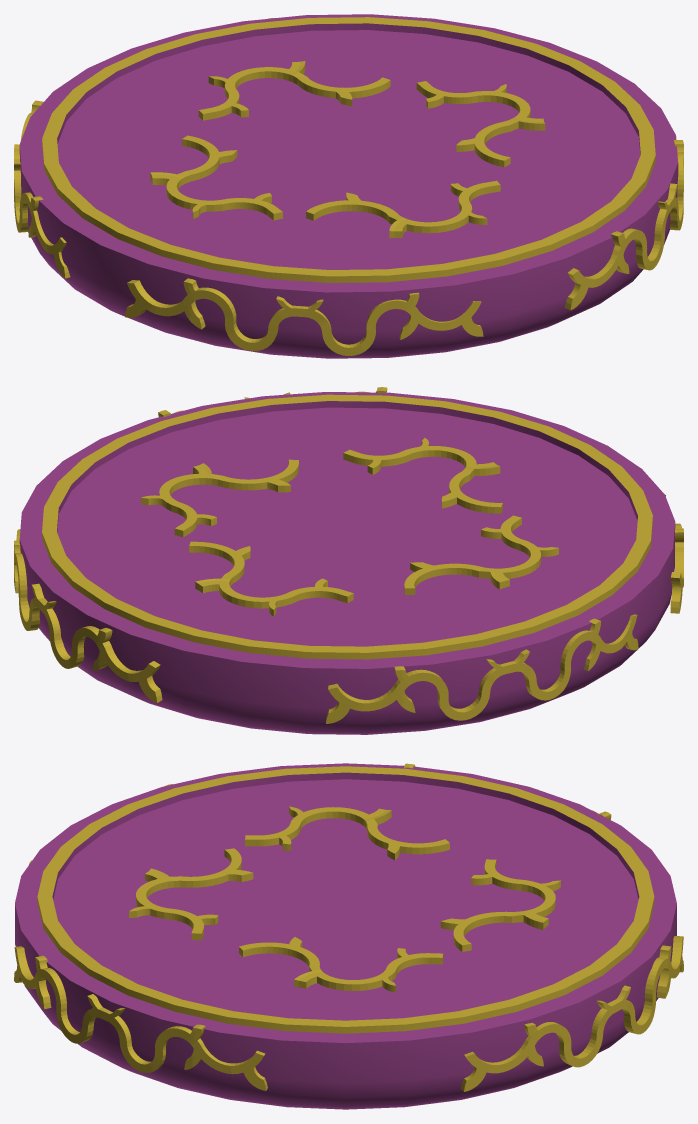
The model's file is Magic_Burger Down.fbx.
The picture shows the model from 3 angles, top to bottom: view 1: azimuth 30°, elevation 25°; view 2: azimuth 150°, elevation 25°; view 3: azimuth 270°, elevation 25°; orthographic projection.
Parts seen in each view (by area): view 1: Burger Bread Down A; view 2: Burger Bread Down A; view 3: Burger Bread Down A.
Boxes of the visible parts, x1,y1,x2,y2 form: Burger Bread Down A: (14, 14, 683, 358); Burger Bread Down A: (14, 387, 683, 734); Burger Bread Down A: (14, 763, 683, 1109).
Bounding box in the file's own units: 74.91 × 11.05 × 75.49.
